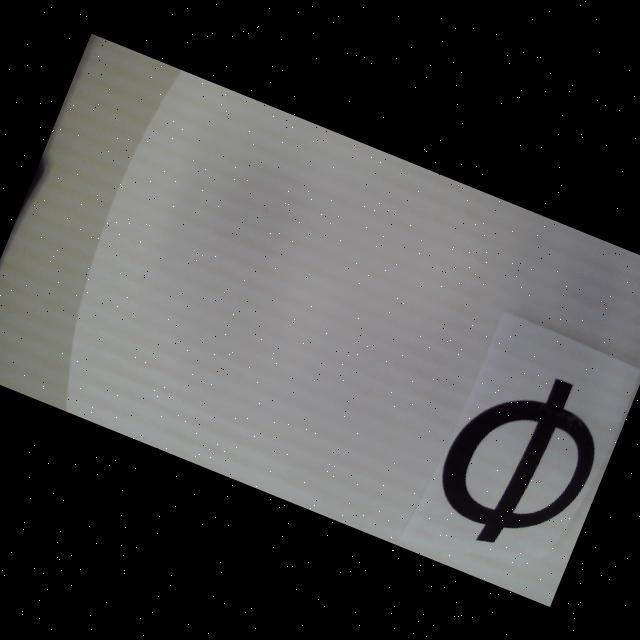PHI: (420, 350, 618, 570)
